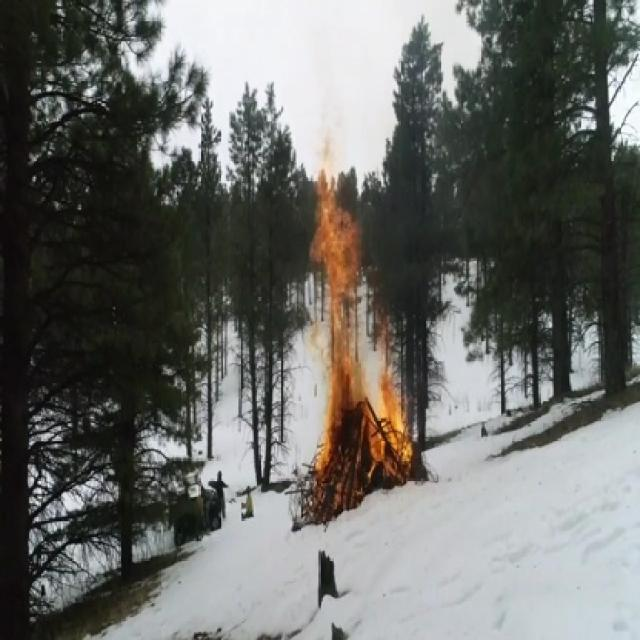Fire: (296, 134, 416, 517)
